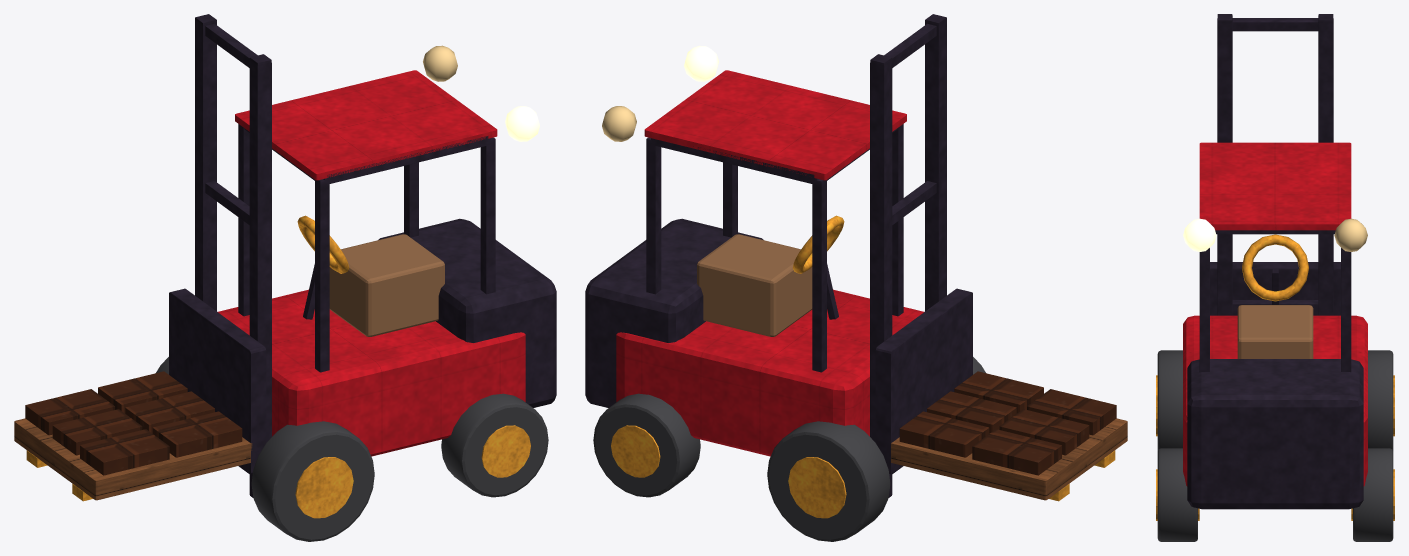
The model's file is CHO_Forklift.fbx.
3 views of the same model, side by side, from view 1: azimuth 30°, elevation 25°; view 2: azimuth 150°, elevation 25°; view 3: azimuth 270°, elevation 25° (orthographic). The views are drawn at different scales.
Parts seen in each view (by area): view 1: CHO_Forklift; view 2: CHO_Forklift; view 3: CHO_Forklift.
Part boxes in pixels (x1=…): CHO_Forklift: x1=14, y1=14, x2=556, y2=541; CHO_Forklift: x1=585, y1=14, x2=1127, y2=541; CHO_Forklift: x1=1156, y1=14, x2=1394, y2=541.
Bounding box in the file's own units: 2.9 × 2.8 × 1.42.
